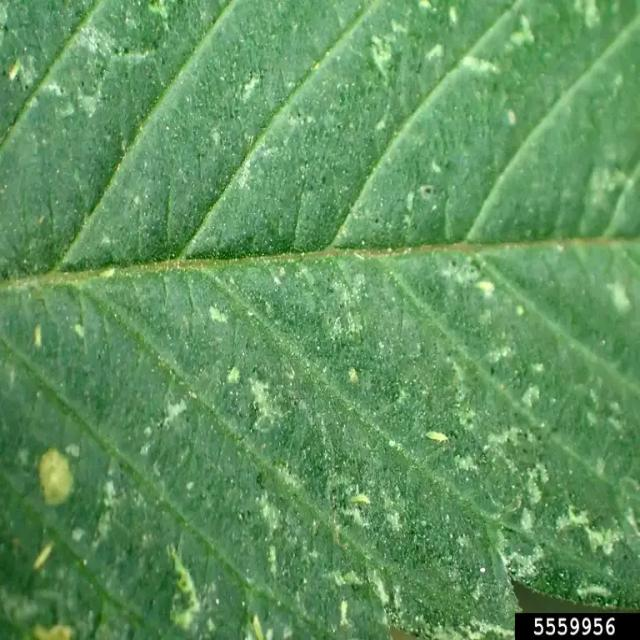Thrip-Larva-: (420, 420, 462, 452), (34, 538, 55, 574), (348, 485, 378, 510)
